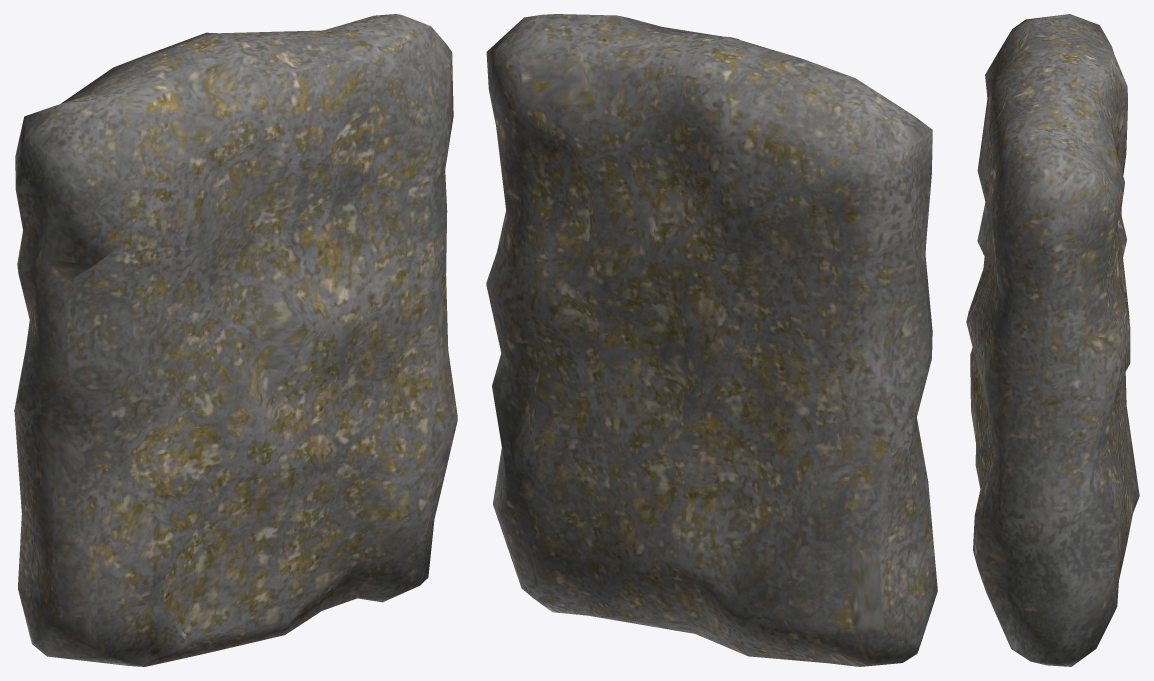
Rendered from Wall.glb.
The picture shows the model from 3 angles, left to right: view 1: azimuth 30°, elevation 25°; view 2: azimuth 150°, elevation 25°; view 3: azimuth 270°, elevation 25°; orthographic projection. The views are drawn at different scales.
Visible parts, largest first — view 1: Wall; view 2: Wall; view 3: Wall.
Boxes of the visible parts, left/top/right/bottom form: Wall: left=14, top=14, right=457, bottom=666; Wall: left=486, top=14, right=937, bottom=666; Wall: left=966, top=14, right=1139, bottom=666.
Size of the model in its own units: 5.87 by 7.8 by 2.28.
1 material, 1 textured.
